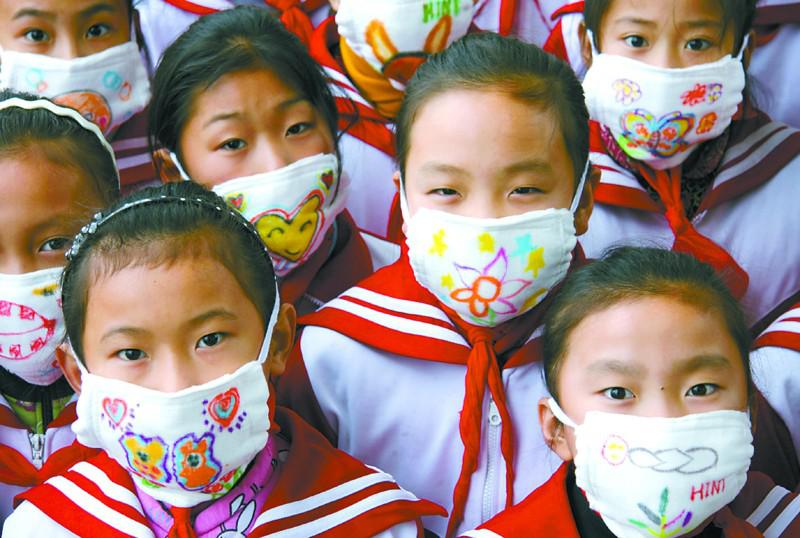OK: (571, 350, 747, 526), (407, 149, 577, 319), (1, 194, 106, 390), (596, 14, 739, 157), (9, 4, 120, 115)
WRONG: (95, 305, 272, 493), (185, 92, 344, 251)
